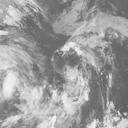cyclone: (49, 25, 113, 93)
